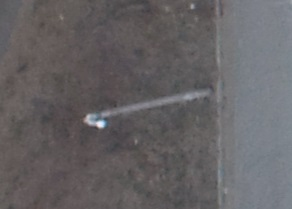opora: (83, 85, 215, 130)
